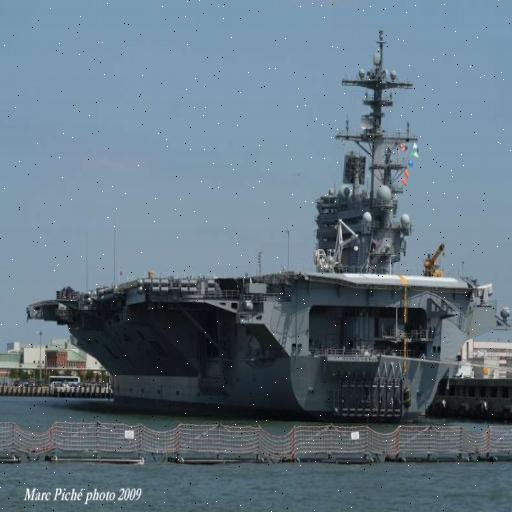Portanaves: (30, 26, 497, 420)
